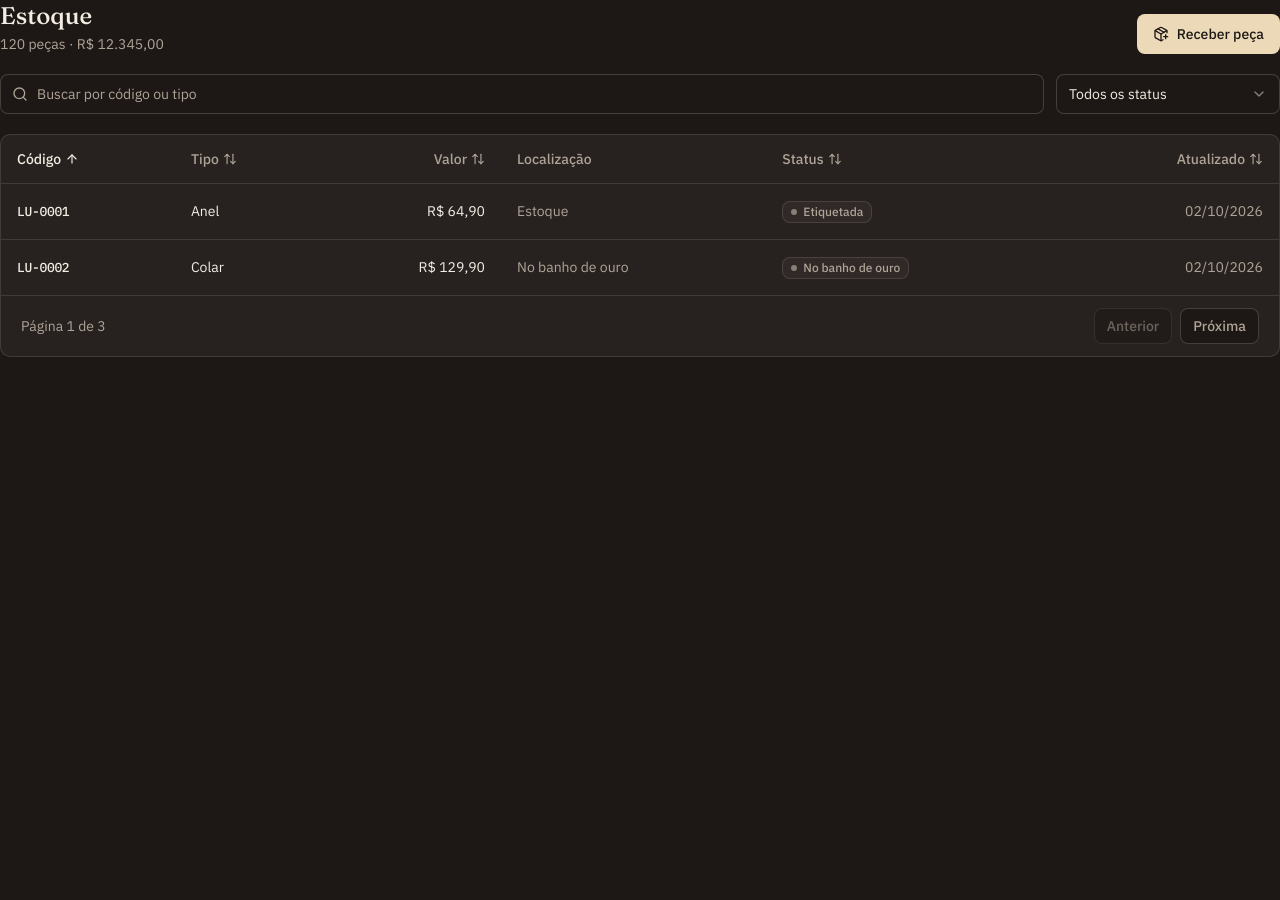
Test: inventory screen › explains a missing piece in the detail and lets the user retry
Click the button with aria-label "Ver peça LU-0001" at (43, 211), box [17,200,69,222]
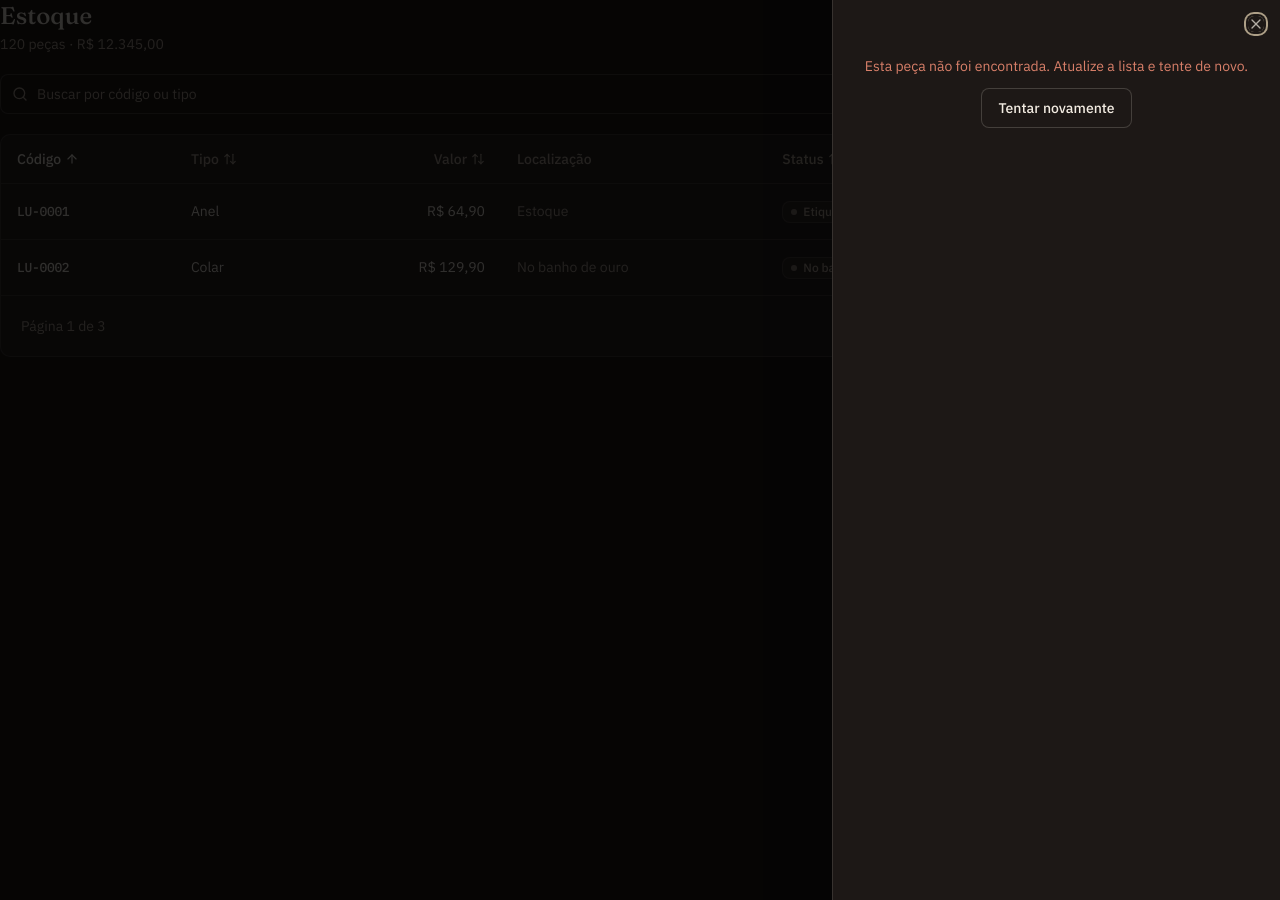
Now the text "Esta peça não foi encontrada" is shown, box [865,57,1248,75]
Now the button "Tentar novamente" is shown, box [981,88,1132,128]
